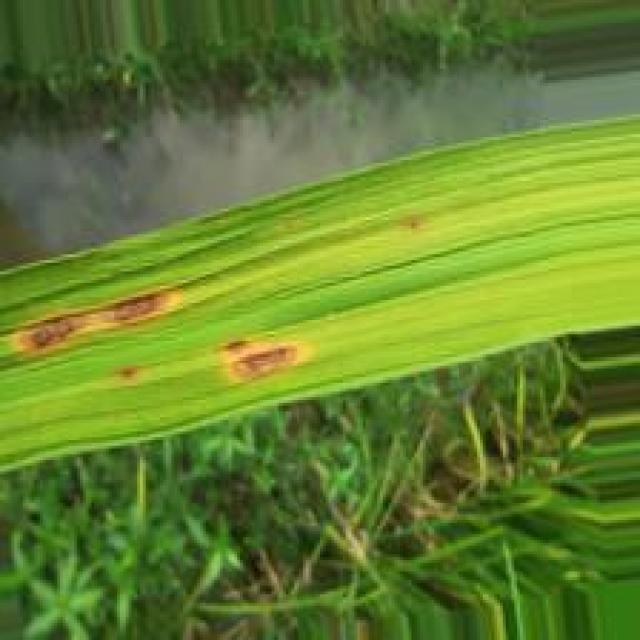Narrow_Brown_Leaf_Spot: (10, 281, 195, 361), (198, 333, 322, 397), (114, 359, 144, 385), (404, 212, 420, 233)
